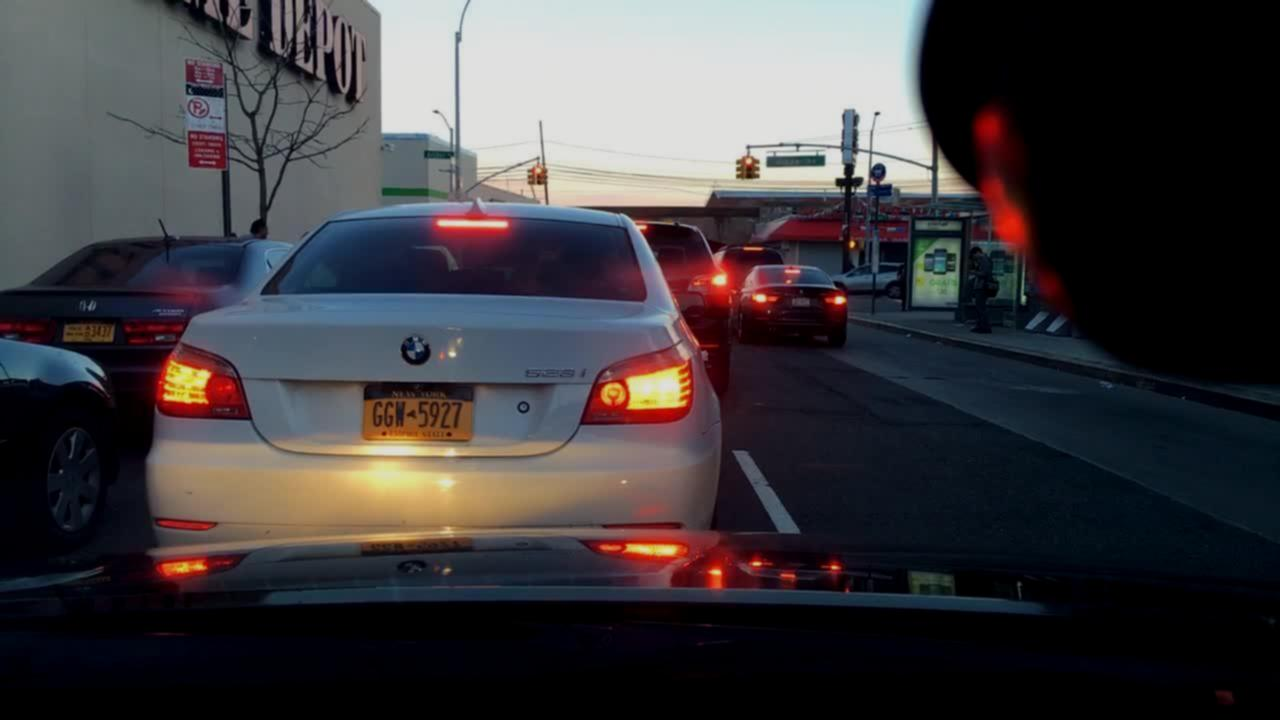Honda: (70, 284, 104, 318)
bmw: (397, 333, 435, 368)
